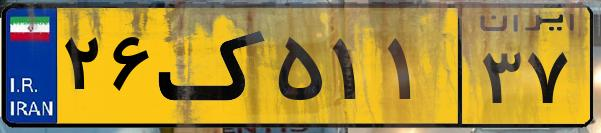1: (385, 28, 445, 110), (330, 28, 385, 110)
2: (57, 26, 110, 100)
3: (475, 38, 525, 113)
5: (270, 28, 330, 110)
6: (110, 28, 158, 98)
7: (525, 38, 570, 115)
ک: (158, 12, 270, 120)
